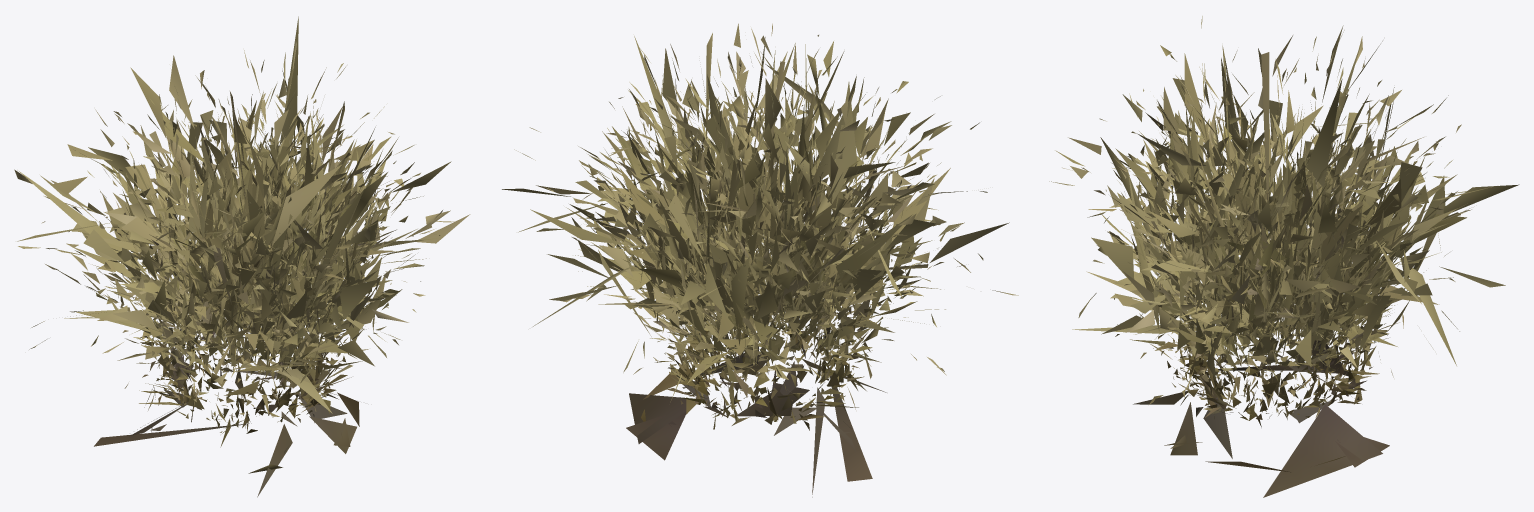
File: grass-tuft.glb
The picture shows the model from 3 angles, left to right: view 1: azimuth 30°, elevation 25°; view 2: azimuth 150°, elevation 25°; view 3: azimuth 270°, elevation 25°; orthographic projection. The views are drawn at different scales.
Visible parts, largest first — view 1: Mesh_0; view 2: Mesh_0; view 3: Mesh_0.
Boxes of the visible parts, x1,y1,x2,y2 form: Mesh_0: (14,16,470,497); Mesh_0: (502,23,1018,497); Mesh_0: (1049,16,1519,497).
Size of the model in its own units: 0.8017 by 0.6991 by 0.7246.
1 material, 1 textured.
